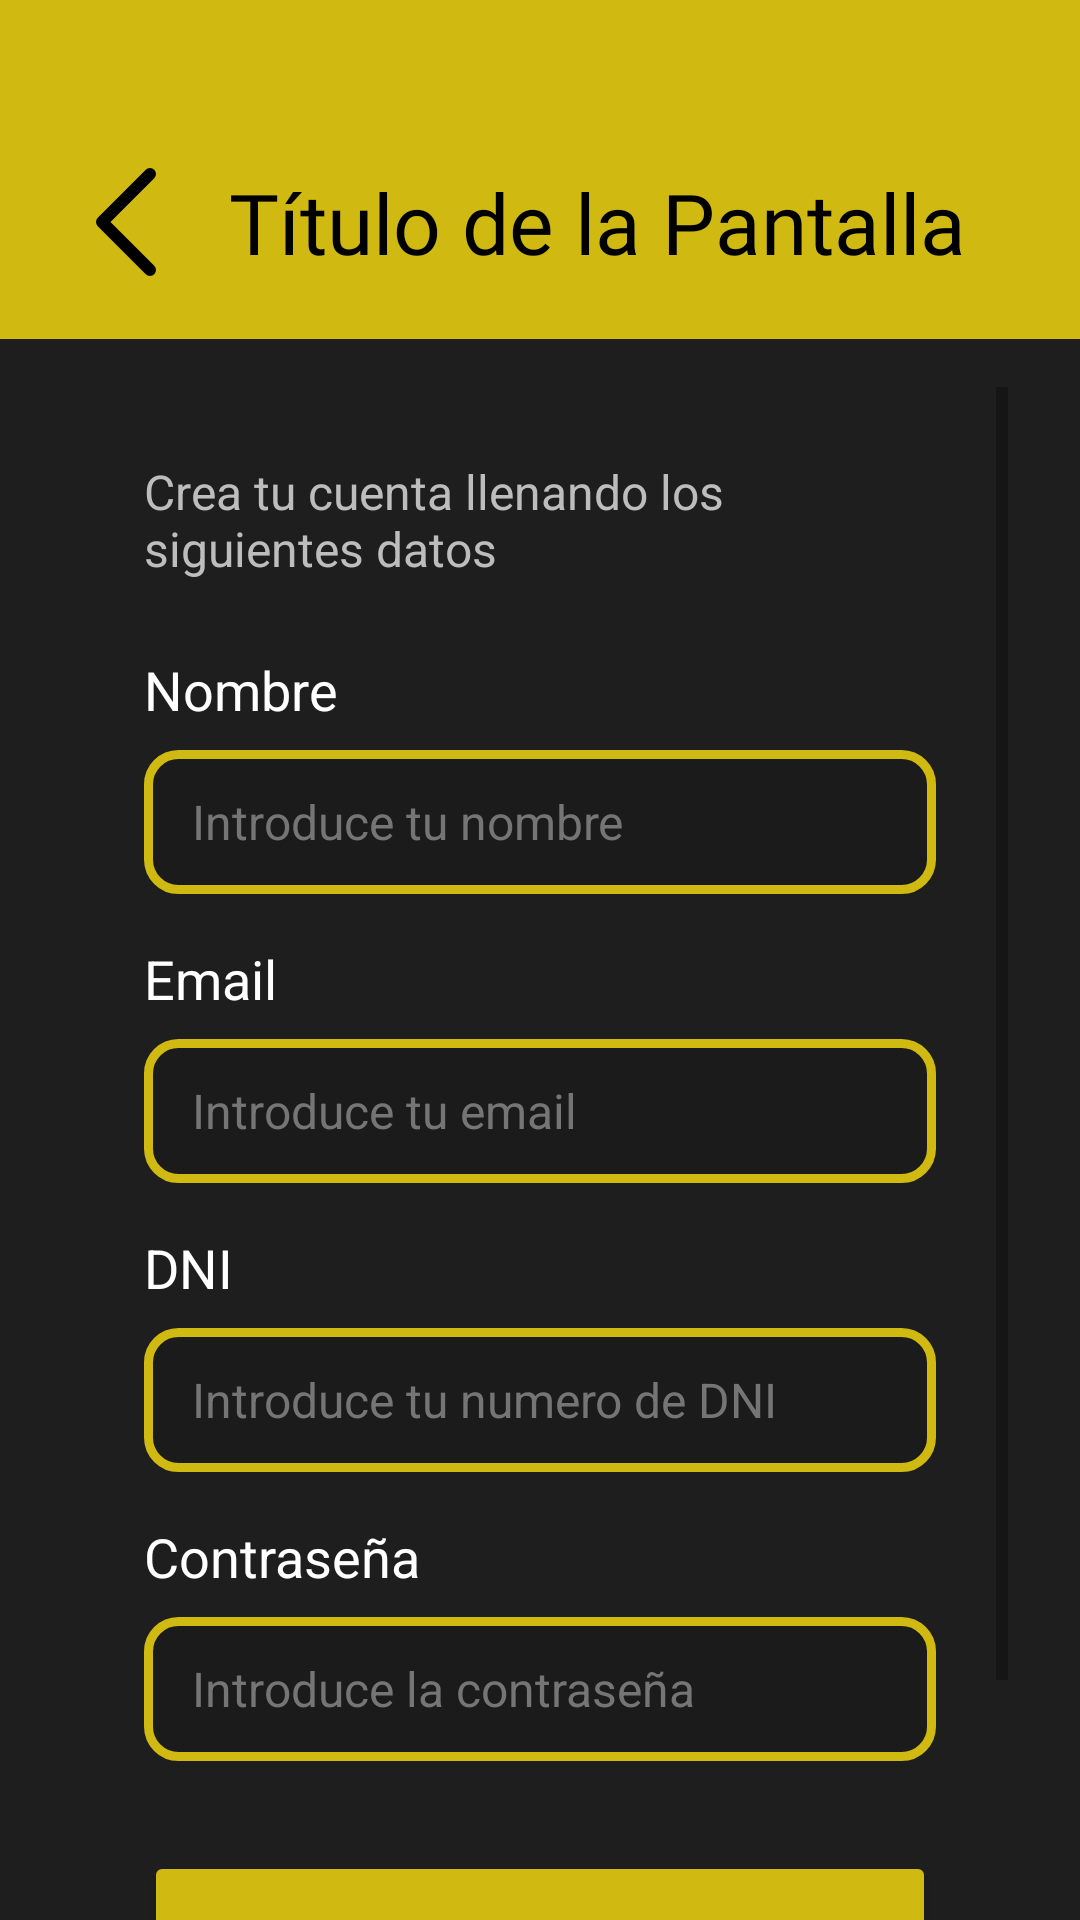

Icon bounding boxes for this 1080 x 1920 phone screenshot, format (x1, y1, x2, y2):
atras: (96, 168, 156, 276)
